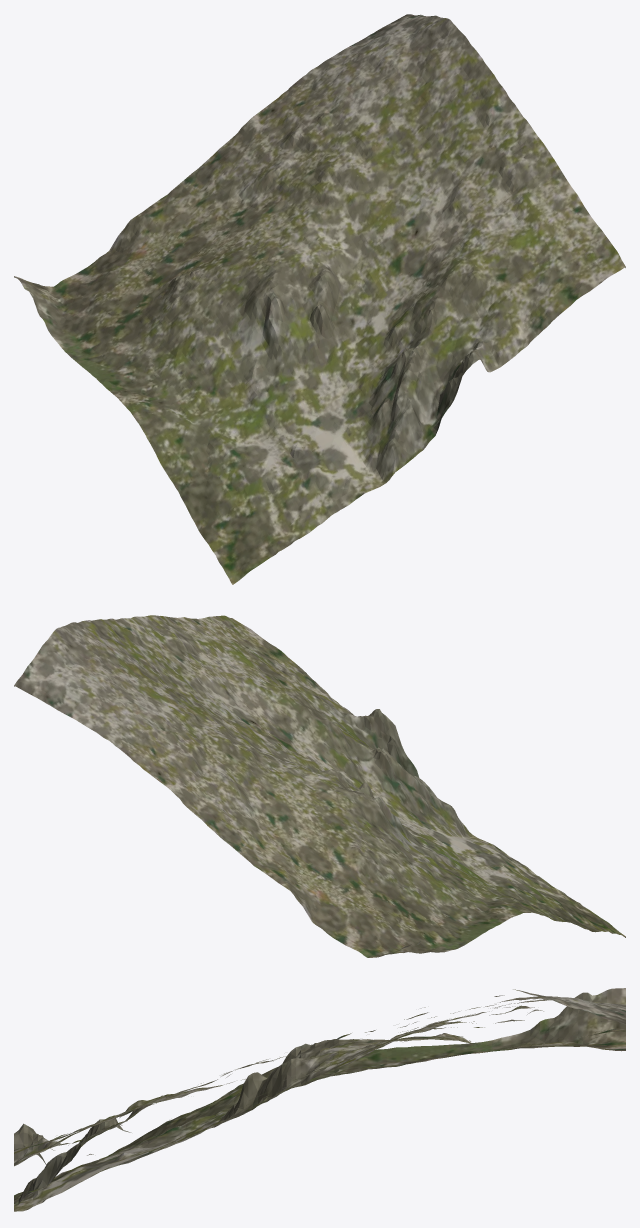
3 renders of one model, top to bottom at view 1: azimuth 30°, elevation 25°; view 2: azimuth 150°, elevation 25°; view 3: azimuth 270°, elevation 25°, orthographic. The views are drawn at different scales.
Bounding box in the file's own units: 250 × 208 × 241.
1 material, 1 textured.
